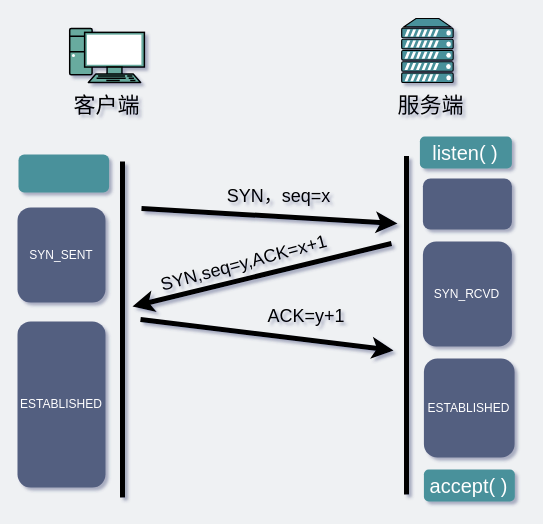
The diagram is 543 pixels wide and 524 high, and some of its shapes have lost their labels. The centre of each missing label's shape, as x and y in pixels:
"connect()" goes at point 63,173.
"LISTEN" goes at point 466,203.
